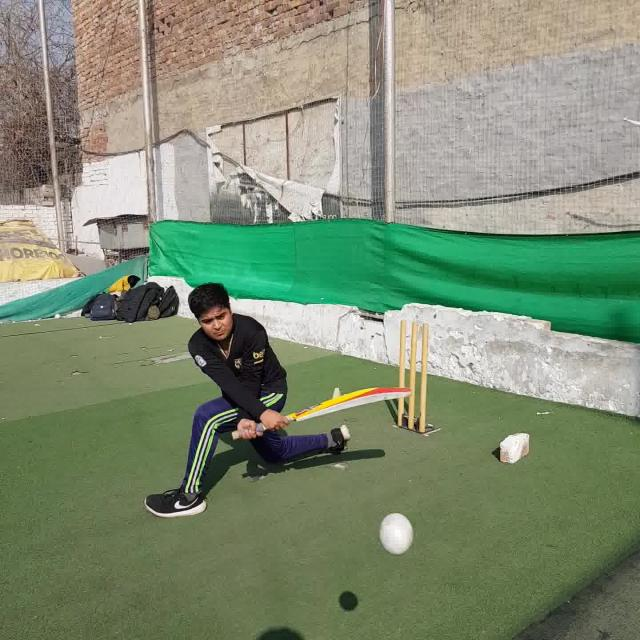ball: (381, 511, 412, 557)
bat: (230, 389, 410, 437)
